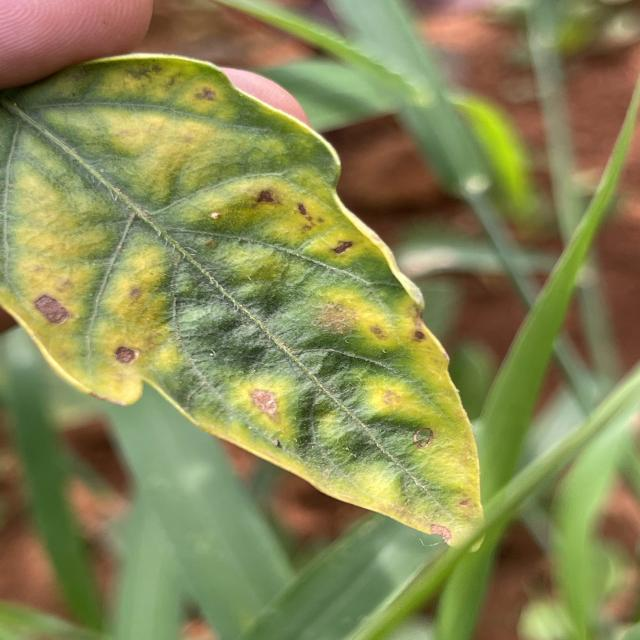tomato_early blight: (0, 49, 490, 550)
